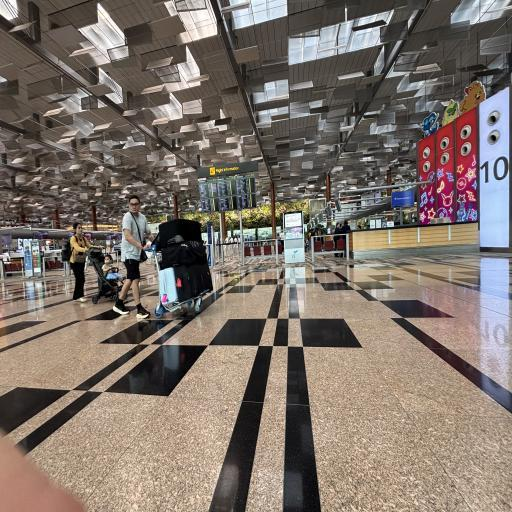person_with_luggage_right: (151, 219, 213, 318), (121, 211, 148, 281)
